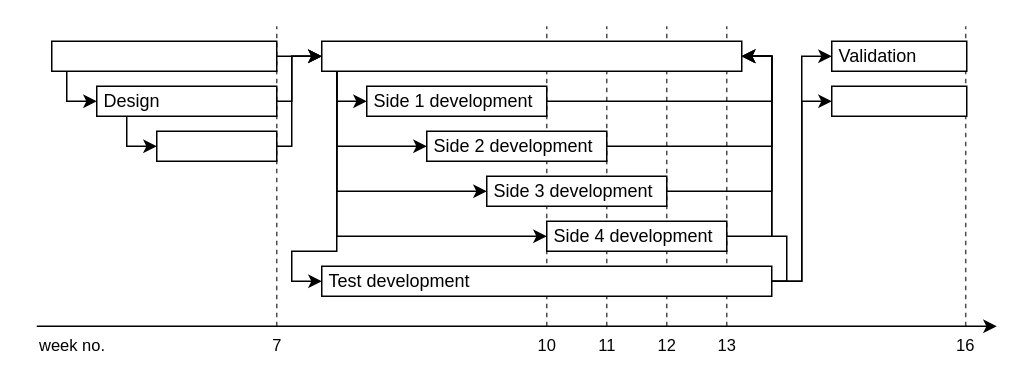
Some shapes in this 1035 by 383 pixel diagram are drawn without their labels. The shapes that lost their labels are listed below. From the top down, each one's centre as x and y in pixels, then its label:
At point 163,55: "Research".
At point 531,55: "Main controller development".
At point 898,100: "Documentation".
At point 216,145: "Planning".
